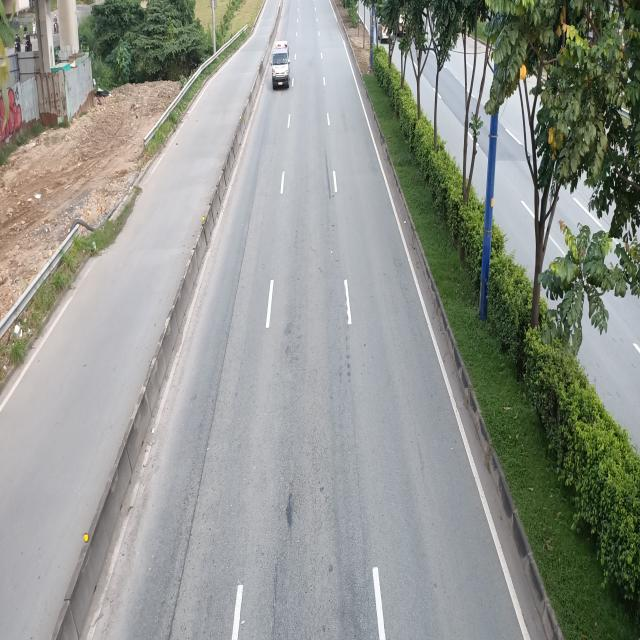van: (271, 42, 292, 90)
